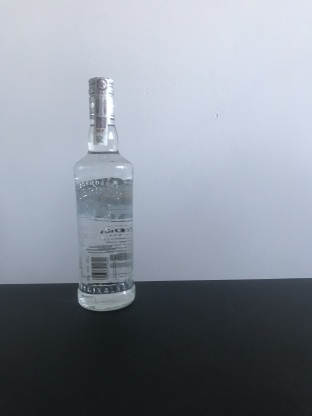nakretka: (86, 74, 116, 121)
